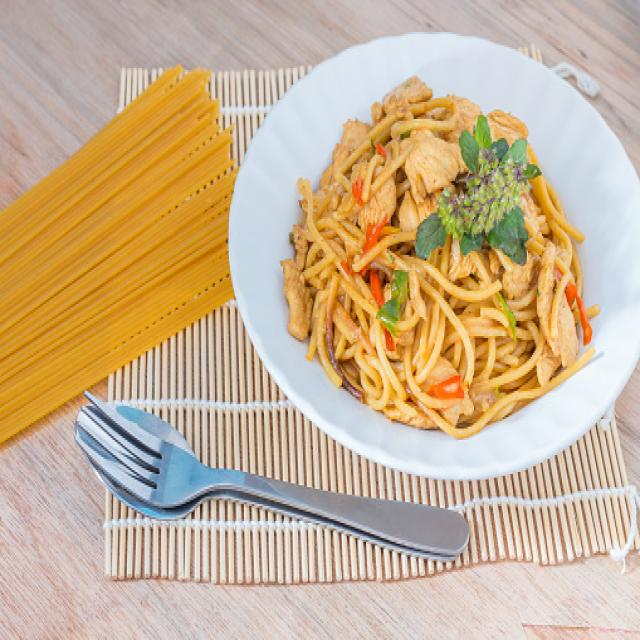carb: (294, 99, 542, 429), (532, 177, 588, 293)
meat: (406, 128, 472, 206), (537, 245, 576, 367), (420, 354, 474, 428), (322, 123, 368, 188), (360, 175, 397, 230), (384, 75, 435, 114), (285, 262, 311, 332), (487, 111, 527, 141), (454, 100, 481, 133), (375, 105, 384, 119)
vegetable: (417, 120, 537, 265)
